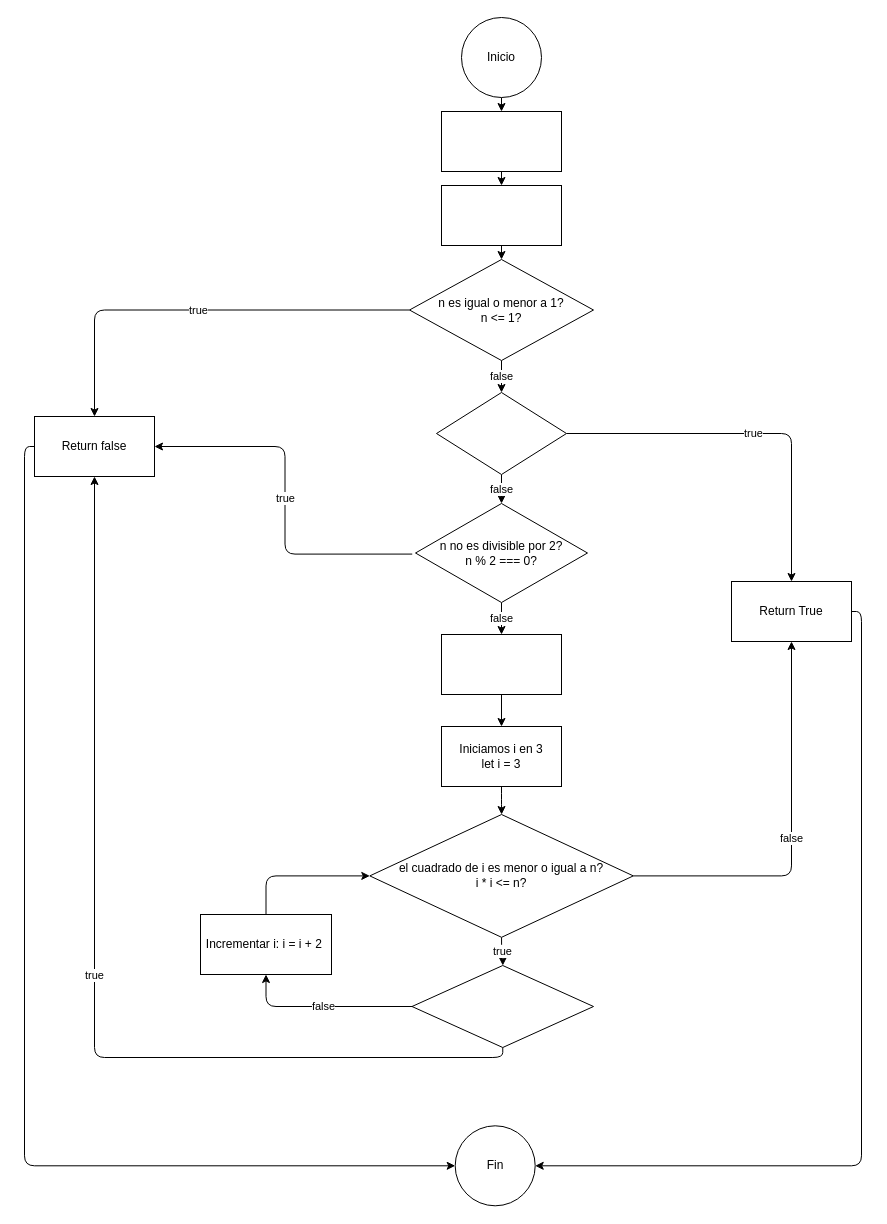
Image size: 887x1224. Some labels were removed from this diagram. Here are the shapes that lost their labels. From the top down, the centre of each, then its label:
pixel 501 141: Solicitar al usuario un numero
pixel 501 215: Inicaiamos la funcion esPrimo(n)
pixel 501 433: n es igual a 2? n === 2?
pixel 501 664: Iniciamos bucle interno
pixel 502 1006: n es divisible por i? n % i === 0
